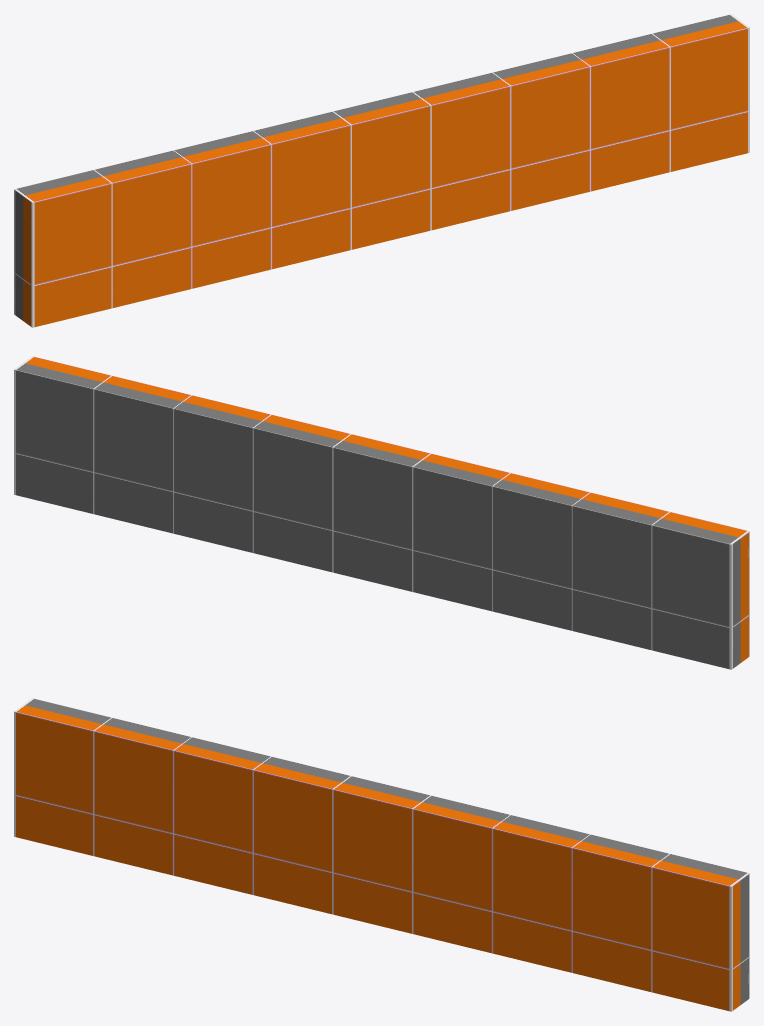
File: M01Wall01_2.FBX
The picture shows the model from 3 angles, top to bottom: view 1: azimuth 30°, elevation 25°; view 2: azimuth 150°, elevation 25°; view 3: azimuth 330°, elevation 25°; orthographic projection.
Visible parts, largest first — view 1: M01Wall01_2; view 2: M01Wall01_2; view 3: M01Wall01_2.
Part boxes in pixels (x1,y1,x2,y2): M01Wall01_2: (14,14,749,327); M01Wall01_2: (14,356,749,669); M01Wall01_2: (14,698,749,1011).
Size of what is drawn, in the model's own units: 4.5 by 0.75 by 0.2.
